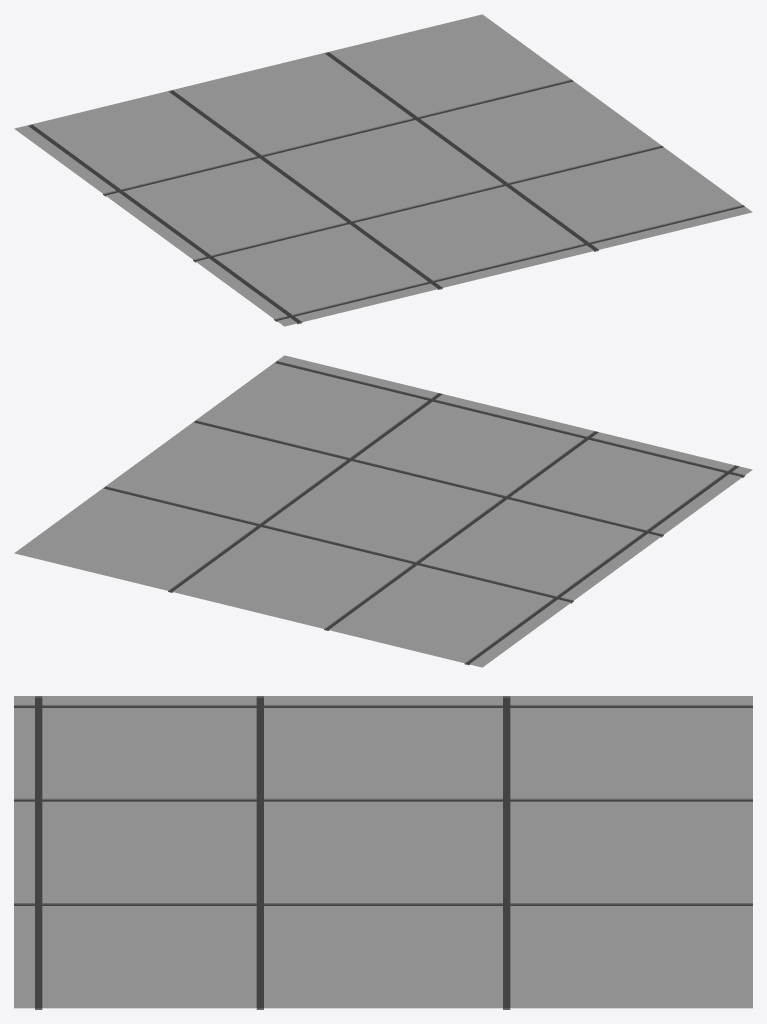
Rendered from Floorfbx.fbx.
The picture shows the model from 3 angles, top to bottom: view 1: azimuth 30°, elevation 25°; view 2: azimuth 150°, elevation 25°; view 3: azimuth 270°, elevation 25°; orthographic projection. The views are drawn at different scales.
Visible parts, largest first — view 1: Floor; view 2: Floor; view 3: Floor.
Part boxes in pixels (x1,y1,x2,y2): Floor: (14,14,752,326); Floor: (14,355,752,667); Floor: (14,696,752,1009).
Size of the model in its own units: 720 by 720 by 1.46.
